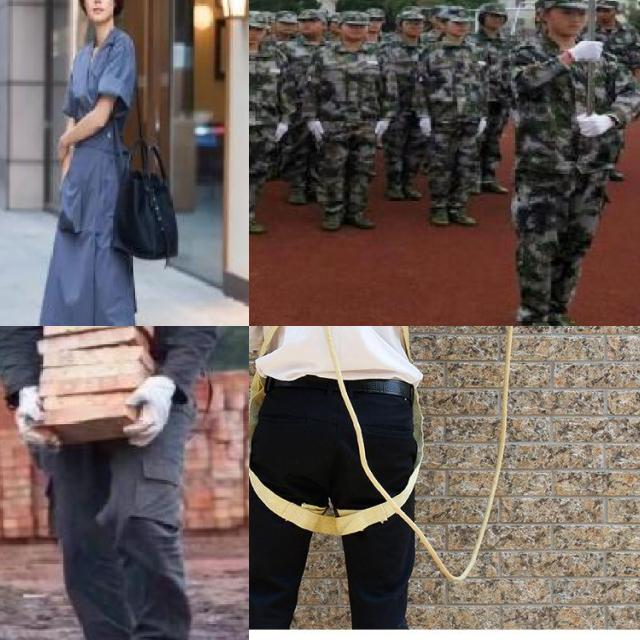Harness: (249, 326, 403, 549)
face_nomask: (548, 4, 586, 42), (85, 0, 118, 29), (342, 17, 369, 43), (340, 22, 368, 44), (485, 9, 505, 37), (299, 14, 323, 37), (448, 17, 472, 37), (402, 16, 422, 38), (274, 17, 294, 37), (249, 24, 263, 47)
hand_glove: (120, 378, 176, 451), (6, 389, 61, 451), (576, 111, 612, 138), (570, 44, 606, 67), (372, 117, 394, 143), (305, 117, 326, 141), (414, 118, 436, 136), (272, 122, 288, 143), (475, 117, 488, 137)
hand_noglove: (55, 134, 67, 162)
person: (0, 326, 220, 640), (44, 0, 168, 326), (509, 0, 629, 326), (326, 5, 389, 229), (430, 9, 480, 222), (386, 8, 429, 217), (467, 0, 509, 203), (249, 10, 281, 241), (294, 10, 328, 52)
